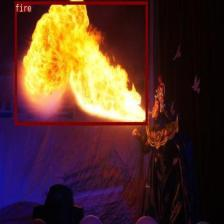fire: (15, 1, 147, 124)
